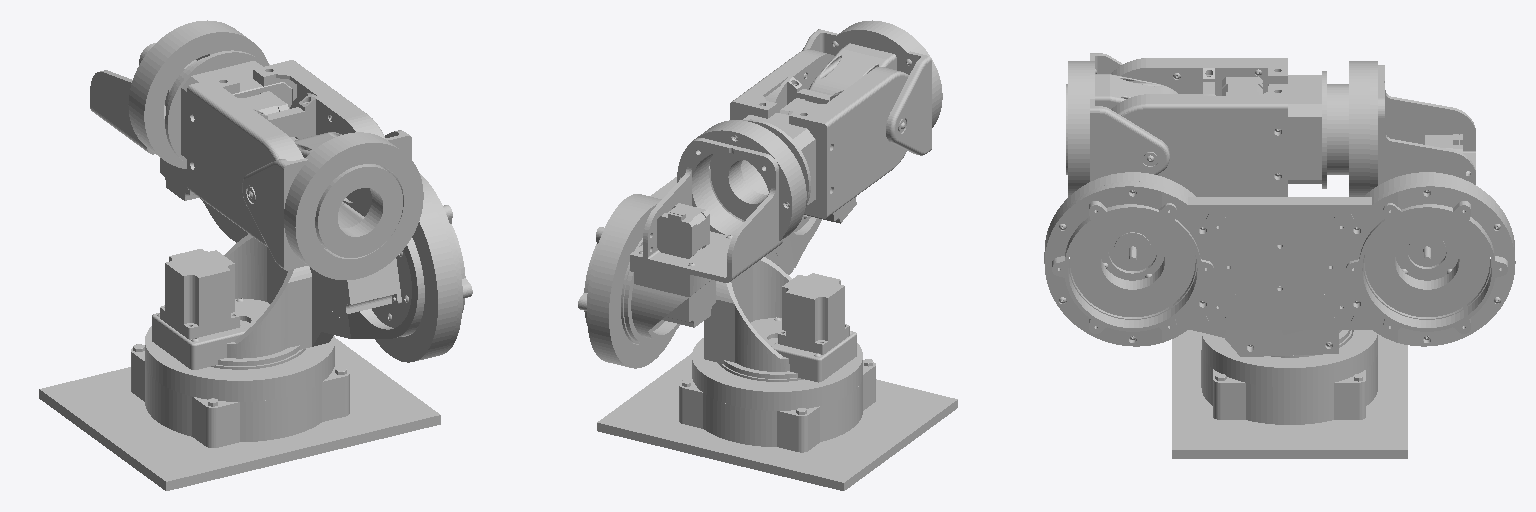
The robot description file, URDF, robot "6dof-arm":
<robot name="6dof-arm">

	<link name="base_link">
		<visual>
			<origin xyz="0 0 0" rpy="0 0 0"/>
			<geometry>
				<mesh filename="meshes/base_link.dae"/>
			</geometry>
		</visual>
	</link>
	
	<link name="k0">
		<visual>
			<origin xyz="0 0 0" rpy="0 0 0"/>
			<geometry>
				<mesh filename="meshes/link01.dae"/>
			</geometry>
		</visual>
	</link>
	
	<link name="k1">
		<visual>
			<origin xyz="0 0 0" rpy="1.570796 0 -1.570796"/>
			<geometry>
				<mesh filename="meshes/link02.dae"/>
			</geometry>
		</visual>
	</link>
	
	<link name="k2">
		<visual>
			<origin xyz="0 0 0" rpy="0 -1.570796 0"/>
			<geometry>
				<mesh filename="meshes/link03.dae"/>
			</geometry>
		</visual>
	</link>
	
	<link name="k3">
		<visual>
			<origin xyz="0 0 0" rpy="1.570796 0 0"/>
			<geometry>
				<mesh filename="meshes/link04.dae"/>
			</geometry>
		</visual>
	</link>
	
	<link name="k4">
		<visual>
			<origin xyz="0 0 0" rpy="1.570796 0 0"/>
			<geometry>
				<mesh filename="meshes/link05.dae"/>
			</geometry>
		</visual>
	</link>
	
	<link name="k5">
		<visual>
			<origin xyz="0 0 0" rpy="1.570796 0 0"/>
			<geometry>
				<mesh filename="meshes/end_effector.dae"/>
			</geometry>
		</visual>
	</link>
	
	<joint name="j0" type="revolute">
		<origin xyz="0.000 0.000 0.000" rpy="0.00 0.00 0.00"/>
		<parent link="base_link"/>
		<child link="k0"/>
		<axis xyz="0 0 1"/> 
		<limit lower="-3.14" upper="3.14" />
	</joint>
	
	<joint name="j1" type="revolute">
		<origin xyz="0.092 -0.160 0.120" rpy="0.00 0.00 0.00"/>
		<parent link="k0"/>
		<child link="k1"/>
		<axis xyz="1 0 0"/>
		<limit lower="0" upper="3.14" />
	</joint>
	
	<joint name="j2" type="revolute">
		<origin xyz="0.000 0.300 0.000" rpy="0.00 0.00 0.00"/>
		<parent link="k1"/>
		<child link="k2"/>
		<axis xyz="-1 0 0"/>
		<limit lower="0" upper="2" />
	</joint>
	
	<joint name="j3" type="revolute">
		<origin xyz="-0.092 -0.080 0.104" rpy="0.00 0.00 0.00"/>
		<parent link="k2"/>
		<child link="k3"/>
		<axis xyz="0 1 0"/>
		<limit lower="-3.14" upper="3.14" />
	</joint>
	
	<joint name="j4" type="revolute">
		<origin xyz="0.00 -0.202 0.00" rpy="0.00 0.00 0.00"/>
		<parent link="k3"/>
		<child link="k4"/>
		<axis xyz="1 0 0"/>
		<limit lower="-1.57" upper="1.57" />
	</joint>
	
	<joint name="j5" type="revolute">
		<origin xyz="0.00 -0.062 0.00" rpy="0.00 0.00 0.00"/>
		<parent link="k4"/>
		<child link="k5"/>
		<axis xyz="0 1 0"/>
		<limit lower="-3.14" upper="3.14" />
	</joint>
</robot>

--- What the picture shows (computed from the rendered views, not written in the file) ---
3 views of the same robot in one strip: view 1: azimuth 30°, elevation 25°; view 2: azimuth 150°, elevation 25°; view 3: azimuth 270°, elevation 25° (orthographic).
Model 6dof-arm with 7 links and 6 joints (6 revolute), rooted at base_link, posed all joints at 0.
Links seen in each view (by area): view 1: base_link, k0, k3, k4, k2, k1, k5; view 2: base_link, k2, k3, k0, k4, k1; view 3: k1, base_link, k3, k2, k0, k4.
Boxes of the visible links, bbox=[...] form: base_link: bbox=[39, 326, 440, 490]; k0: bbox=[152, 234, 424, 369]; k3: bbox=[165, 50, 385, 245]; k4: bbox=[242, 130, 423, 279]; k2: bbox=[90, 20, 268, 214]; k1: bbox=[205, 64, 472, 362]; k5: bbox=[315, 164, 402, 257]; base_link: bbox=[597, 338, 957, 490]; k2: bbox=[621, 120, 806, 344]; k3: bbox=[710, 49, 908, 220]; k0: bbox=[704, 196, 856, 382]; k4: bbox=[802, 20, 942, 155]; k1: bbox=[578, 166, 821, 368]; k1: bbox=[1044, 172, 1515, 346]; base_link: bbox=[1172, 330, 1407, 458]; k3: bbox=[1111, 58, 1348, 196]; k2: bbox=[1349, 61, 1489, 316]; k0: bbox=[1070, 211, 1352, 357]; k4: bbox=[1068, 53, 1177, 196].
Bounding box of the posed robot: 0.3 × 0.48 × 0.378 m (x, y, z).
7 mesh visuals loaded from 7 distinct referenced files (7 Collada DAE).